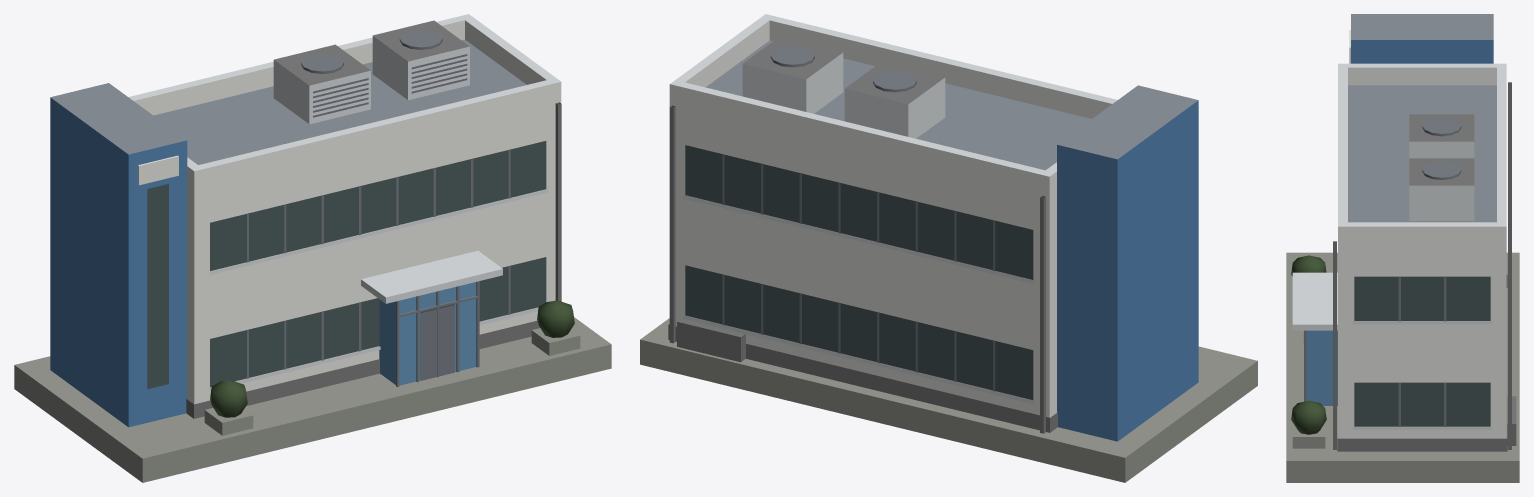
The model's file is mashup-admin-top-prebuilt_close.fbx.
3 views of the same model, side by side, from view 1: azimuth 30°, elevation 25°; view 2: azimuth 150°, elevation 25°; view 3: azimuth 270°, elevation 25° (orthographic). The views are drawn at different scales.
Parts seen in each view (by area): view 1: a1074/0/mashup-admin-top-prebuilt_close; view 2: a1074/0/mashup-admin-top-prebuilt_close; view 3: a1074/0/mashup-admin-top-prebuilt_close.
Boxes of the visible parts, bbox=[...] form: a1074/0/mashup-admin-top-prebuilt_close: bbox=[14, 14, 611, 482]; a1074/0/mashup-admin-top-prebuilt_close: bbox=[640, 14, 1257, 482]; a1074/0/mashup-admin-top-prebuilt_close: bbox=[1286, 14, 1519, 482].
Bounding box in the file's own units: 15.2 × 9.2 × 7.2.
